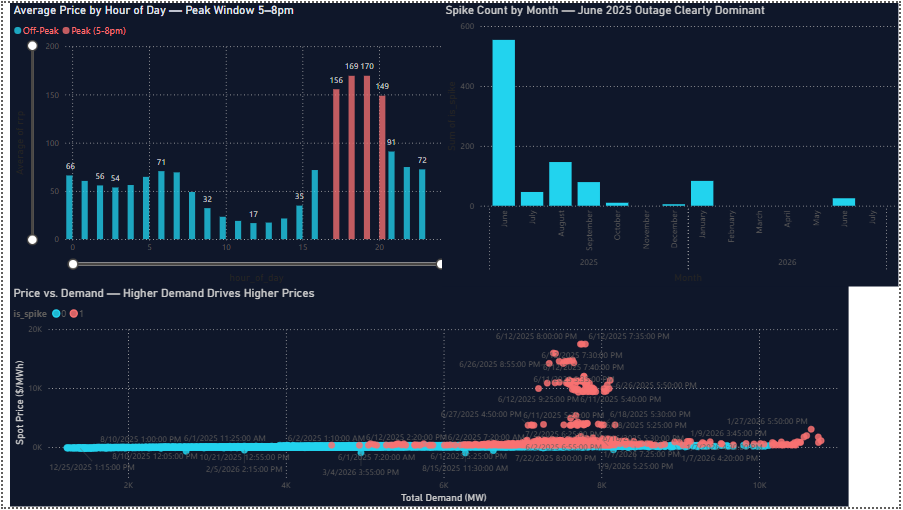

The page's visual inventory and layout, read from the dashboard file:
{"tool":"powerbi","page":{"name":"Spike Analysis","canvas":[1280,720],"ordinal":1},"visuals":[{"type":"clusteredColumnChart","title":"Average Price by Hour of Day — Peak Window 5–8pm","fields":{"Category":["public energy_features.hour_of_day"],"Y":["Avg(public energy_features.rrp)"],"Series":["public energy_features.IsPeakHour_Color"]},"box":[10.1,0,629.3,404.6],"z":0},{"type":"scatterChart","title":"Price vs. Demand — Higher Demand Drives Higher Prices","fields":{"X":["Sum(public energy_features.total_demand)"],"Y":["Sum(public energy_features.rrp)"],"Series":["public energy_features.is_spike"],"Category":["public energy_features.settlement_date"]},"box":[10.1,404.6,1198.1,315.4],"z":1000},{"type":"clusteredColumnChart","title":"Spike Count by Month — June 2025 Outage Clearly Dominant","fields":{"Y":["Sum(public energy_features.is_spike)"],"Category":["public energy_features.settlement_date.Variation.Date Hierarchy.Year","public energy_features.settlement_date.Variation.Date Hierarchy.Month"]},"box":[627.8,0,652.3,404.6],"z":2000}]}

Visuals, with their boxes in screenshot pixels (x1, y1, x2, y2), scaled from the page's 1280x720 canvas onto the 903x510 screenshot:
"Average Price by Hour of Day — Peak Window 5–8pm" clusteredColumnChart: BBox(7, 0, 451, 287)
"Price vs. Demand — Higher Demand Drives Higher Prices" scatterChart: BBox(7, 287, 852, 509)
"Spike Count by Month — June 2025 Outage Clearly Dominant" clusteredColumnChart: BBox(443, 0, 902, 287)
